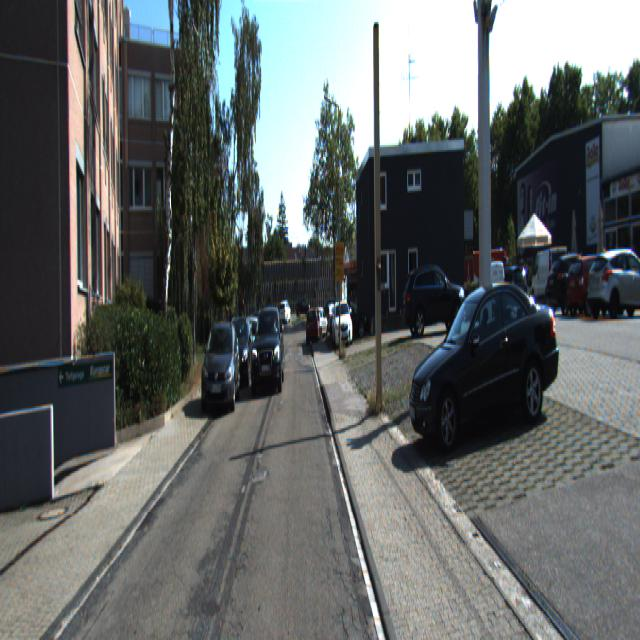Car: (401, 254, 568, 449), (402, 256, 467, 336), (566, 252, 638, 321), (200, 312, 241, 415), (587, 247, 639, 320), (250, 305, 286, 396), (220, 314, 255, 391), (531, 239, 569, 307), (476, 258, 508, 316), (495, 262, 530, 315), (331, 298, 353, 347), (306, 306, 320, 346)
